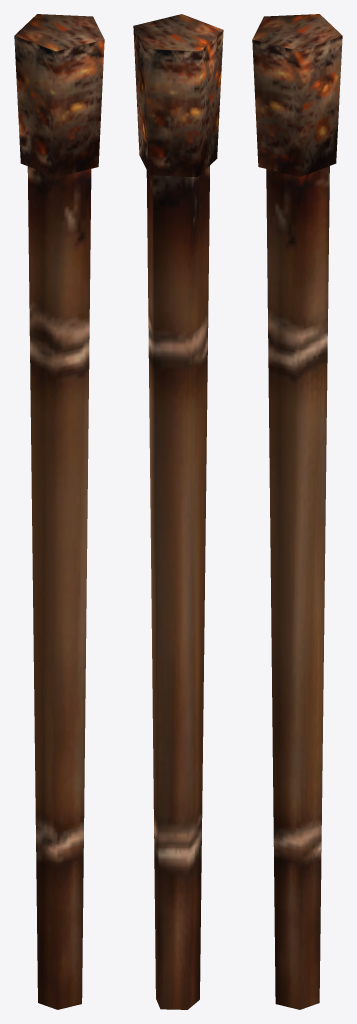
Rendered from generaltorch01.obj.
3 views of the same model, side by side, from view 1: azimuth 30°, elevation 25°; view 2: azimuth 210°, elevation 25°; view 3: azimuth 330°, elevation 25° (orthographic).
Bounding box in the file's own units: 0.1876 × 2.21 × 0.1785.
Materials: 1 (1 with a texture image).
